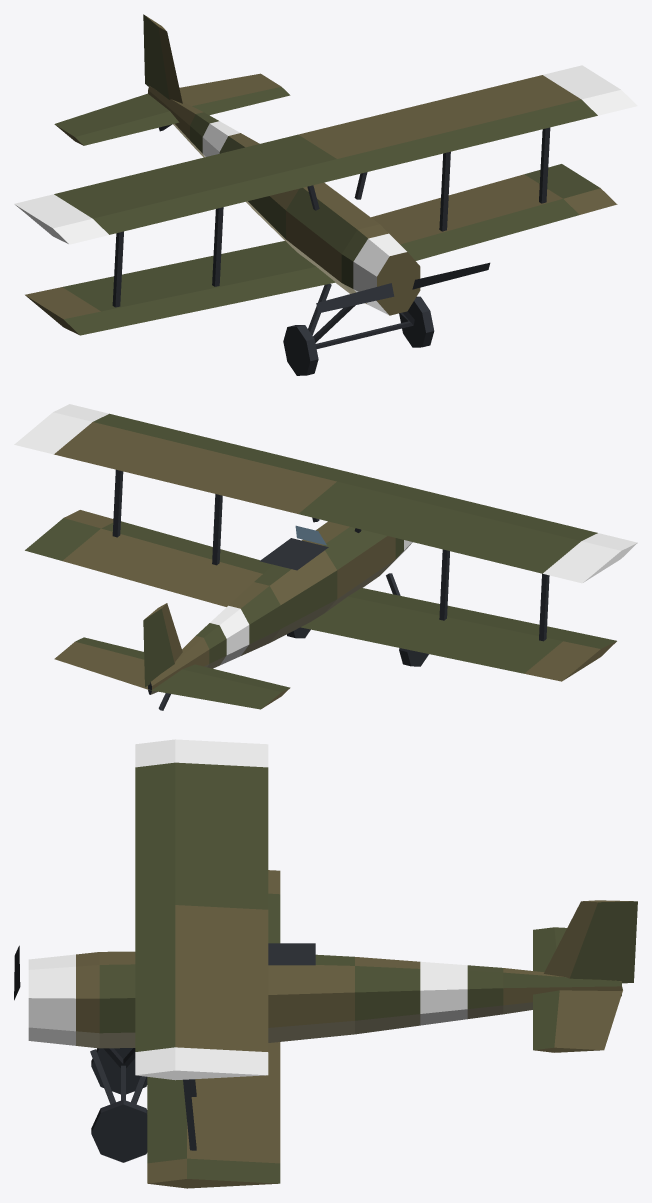
Rendered from spad_s13_lod.glb.
3 renders of one model, top to bottom at view 1: azimuth 30°, elevation 25°; view 2: azimuth 150°, elevation 25°; view 3: azimuth 270°, elevation 25°, orthographic. The views are drawn at different scales.
Parts seen in each view (by area): view 1: body, prop; view 2: body; view 3: body.
Boxes of the visible parts, bbox=[...] form: body: bbox=[14, 14, 637, 375]; prop: bbox=[316, 262, 490, 313]; body: bbox=[14, 404, 637, 710]; body: bbox=[28, 739, 637, 1188].
Bounding box in the file's own units: 8.25 × 2.62 × 6.57.
